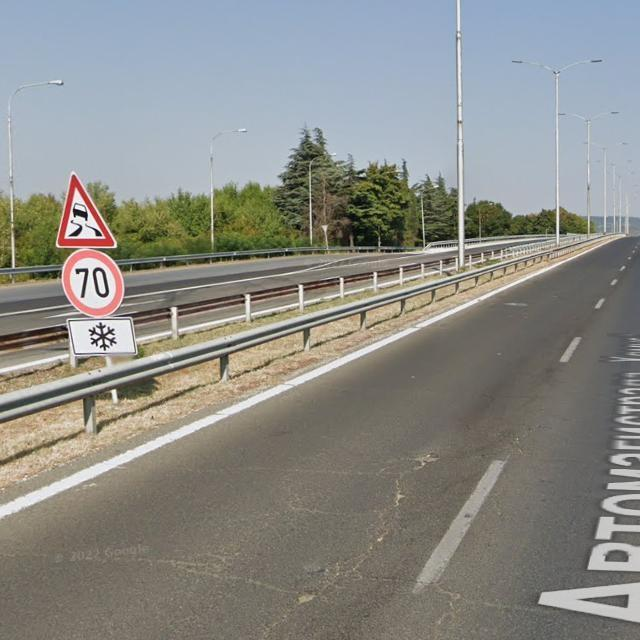forb_speed_over_70: (61, 248, 124, 319)
